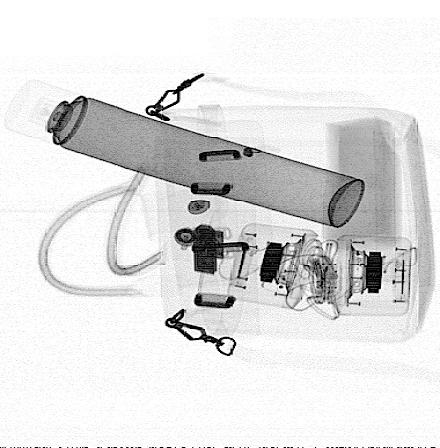Sprayer: (1, 77, 368, 230)
